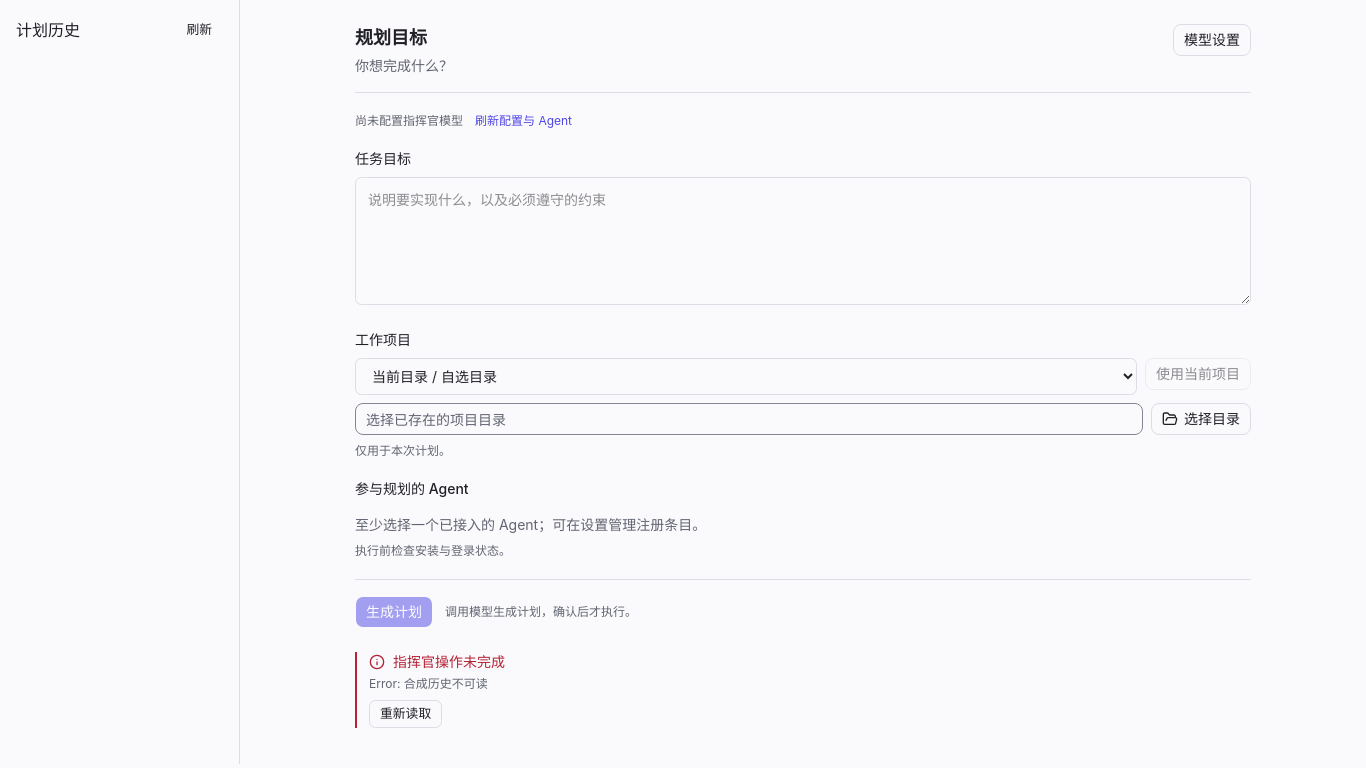
Test: recovers history read failures without generating, executing or retrying a plan
expect the message "指挥官操作未完成 Error: 合成历史不可读" is shown: met, box [369,653,505,691]
Click the button "重新读取": click(406, 714) [369,700,442,728]
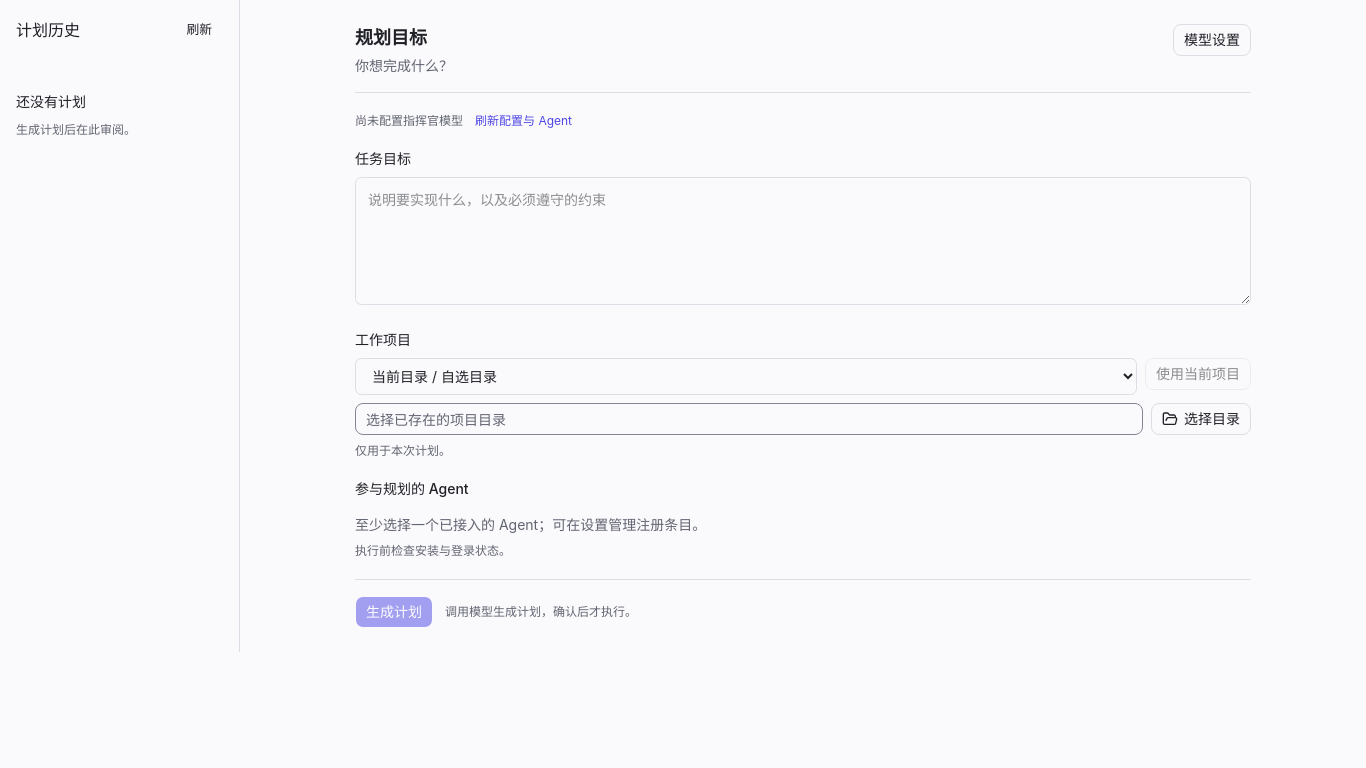
expect the message "指挥官操作未完成 Error: 合成历史不可读" is gone: met
